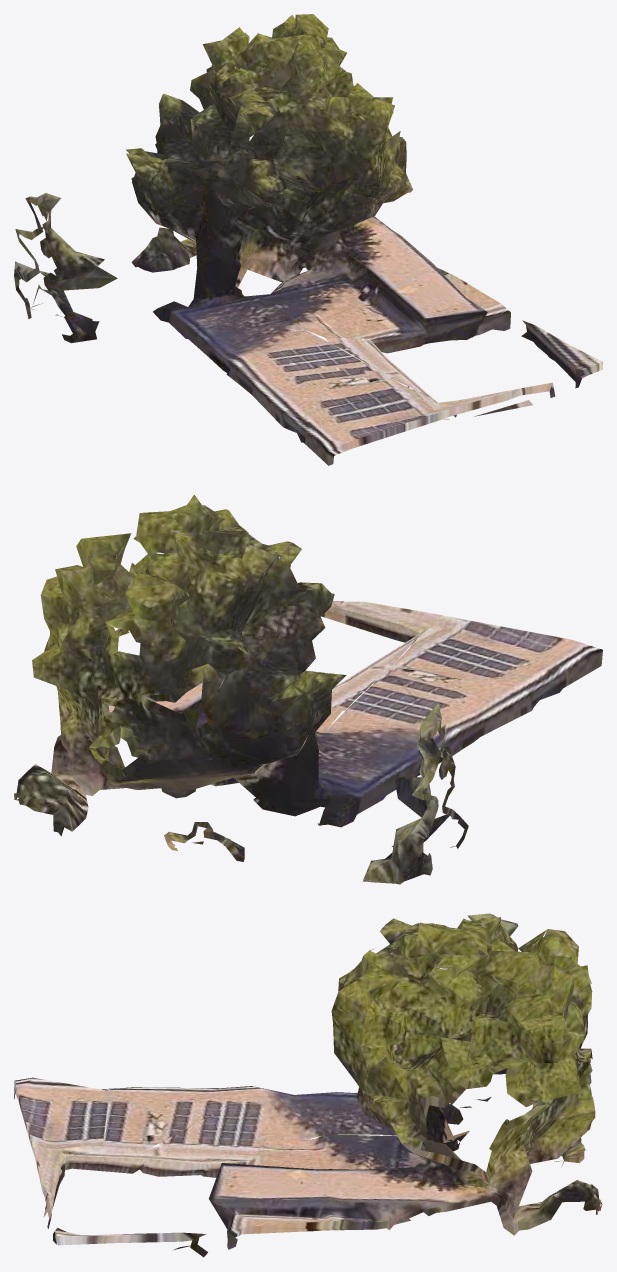
The picture shows the model from 3 angles, top to bottom: view 1: azimuth 30°, elevation 25°; view 2: azimuth 150°, elevation 25°; view 3: azimuth 270°, elevation 25°; orthographic projection. The views are drawn at different scales.
Parts seen in each view (by area): view 1: Mesh_0; view 2: Mesh_0; view 3: Mesh_0.
Boxes of the visible parts, left/top/right/bottom form: Mesh_0: left=14, top=14, right=602, bottom=465; Mesh_0: left=14, top=494, right=602, bottom=884; Mesh_0: left=14, top=913, right=602, bottom=1257.
Bounding box in the file's own units: 33.18 × 21.17 × 41.03.
2 materials, 2 textured.
